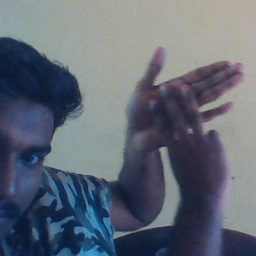M: (123, 46, 246, 192)
